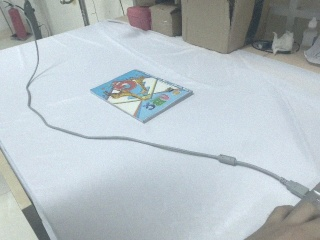book: (88, 67, 195, 126)
bottle: (301, 16, 319, 51)
box: (180, 1, 260, 55), (149, 1, 183, 37)
